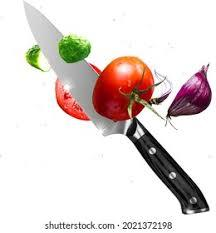Knife: (21, 0, 209, 214)
